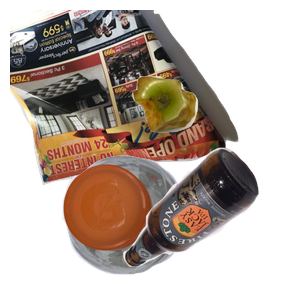glass: (120, 145, 300, 300)
paper: (10, 10, 241, 188)
plastic: (60, 152, 237, 300)
trash: (130, 74, 300, 199)
